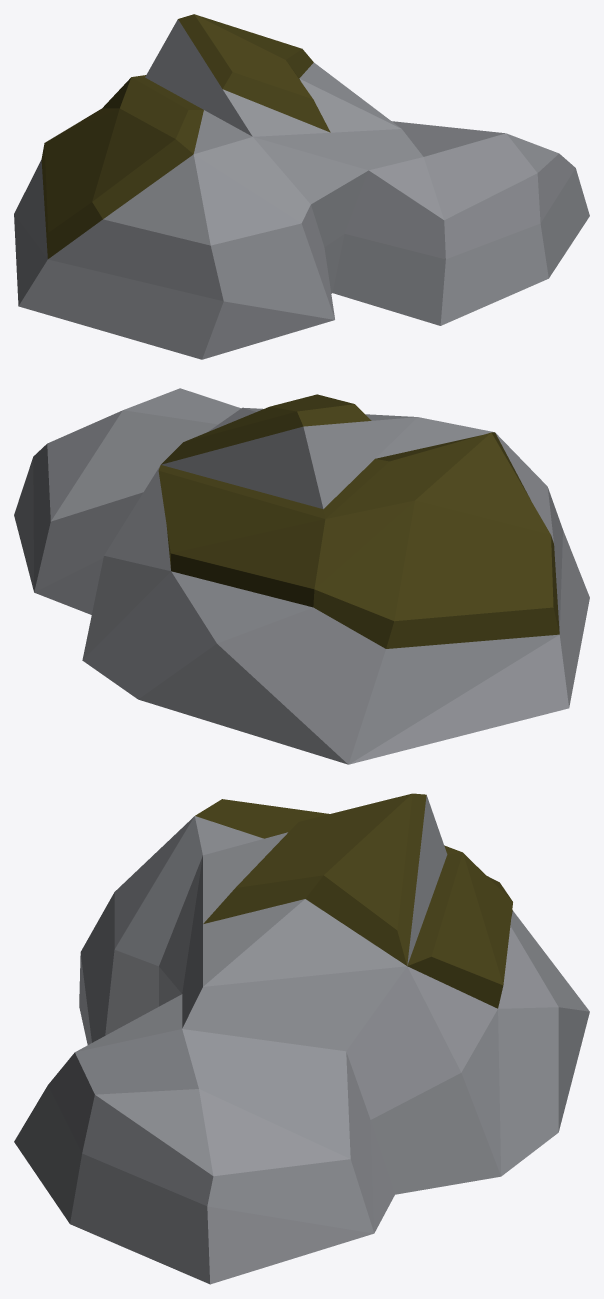
The model's file is stone_with_moss_3.fbx.
3 views of the same model, one above another, from view 1: azimuth 30°, elevation 25°; view 2: azimuth 150°, elevation 25°; view 3: azimuth 270°, elevation 25° (orthographic). The views are drawn at different scales.
Parts seen in each view (by area): view 1: stone_with_moss_3; view 2: stone_with_moss_3; view 3: stone_with_moss_3.
Boxes of the visible parts, <box> form: stone_with_moss_3: <box>14,14,589,359</box>; stone_with_moss_3: <box>14,388,589,764</box>; stone_with_moss_3: <box>14,793,589,1284</box>.
Bounding box in the file's own units: 243 × 99.09 × 179.
